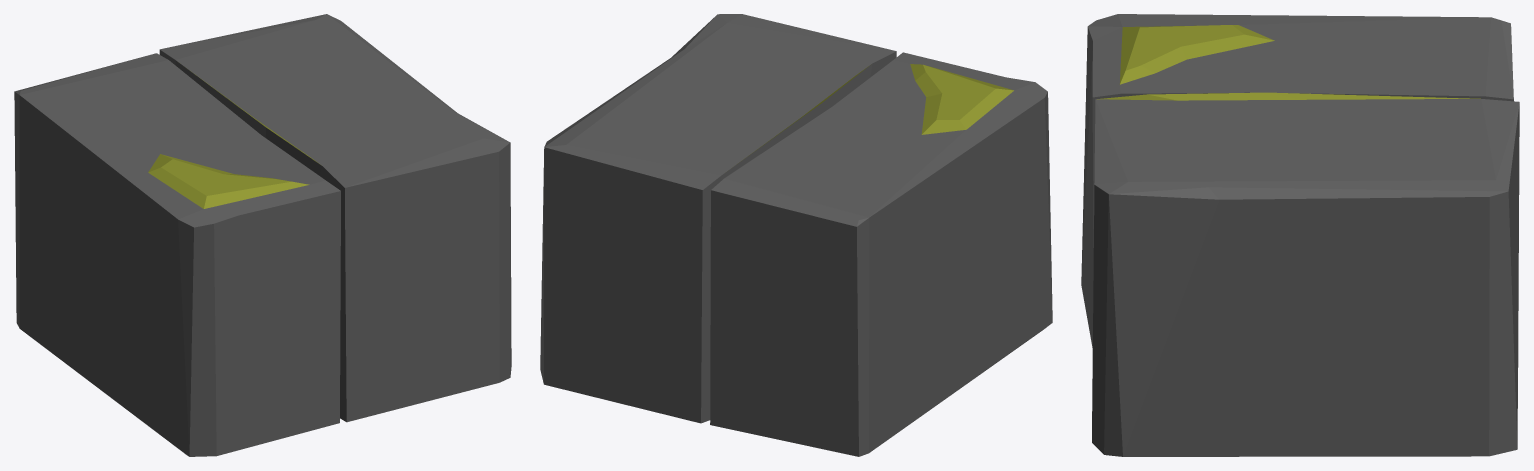
The model's file is tile_squared_moss_type_5_LOD2.fbx.
The picture shows the model from 3 angles, left to right: view 1: azimuth 30°, elevation 25°; view 2: azimuth 150°, elevation 25°; view 3: azimuth 270°, elevation 25°; orthographic projection. The views are drawn at different scales.
Parts seen in each view (by area): view 1: tile_squared_moss_type_5; view 2: tile_squared_moss_type_5; view 3: tile_squared_moss_type_5.
Part boxes in pixels (<box>): tile_squared_moss_type_5: <box>14,14,511,456</box>; tile_squared_moss_type_5: <box>540,14,1052,456</box>; tile_squared_moss_type_5: <box>1081,14,1519,456</box>.
Size of the model in its own units: 119 by 81.93 by 120.
